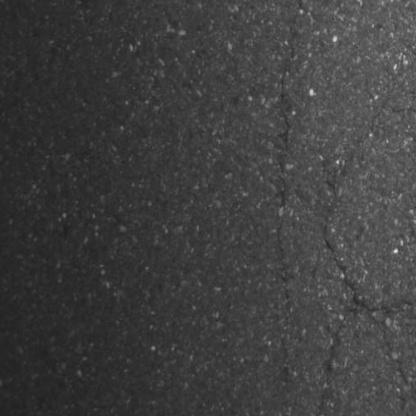Cracks: (314, 177, 416, 416), (273, 0, 326, 245), (398, 370, 416, 416)
